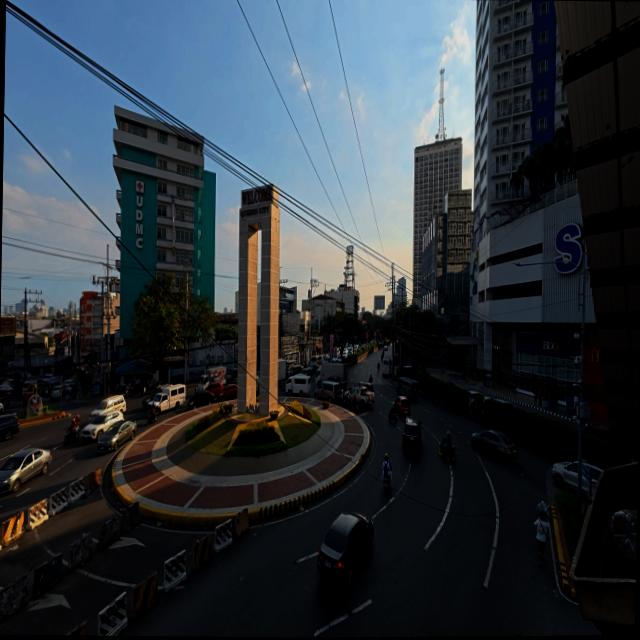car: (319, 513, 377, 592), (470, 428, 520, 464), (98, 416, 138, 453), (402, 417, 426, 453), (0, 413, 20, 440)
